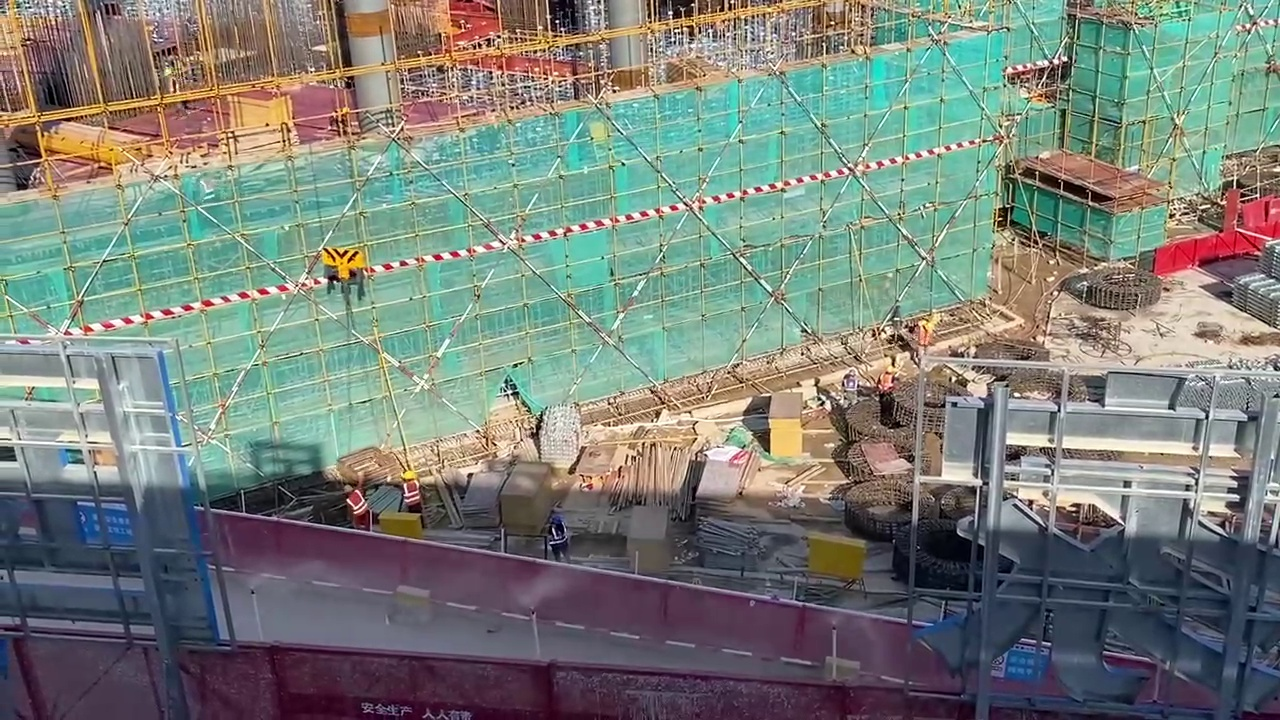board: (501, 463, 551, 536), (768, 392, 803, 458)
fence: (8, 627, 948, 720)
hook: (320, 246, 365, 283)
person: (340, 484, 371, 530), (549, 513, 572, 564), (401, 472, 421, 524), (920, 321, 937, 357), (878, 362, 895, 394), (839, 366, 857, 396)
scaffold: (1231, 266, 1280, 323), (1260, 238, 1280, 274)
vest: (346, 491, 368, 513), (402, 480, 419, 505)
wood: (614, 436, 695, 522)
